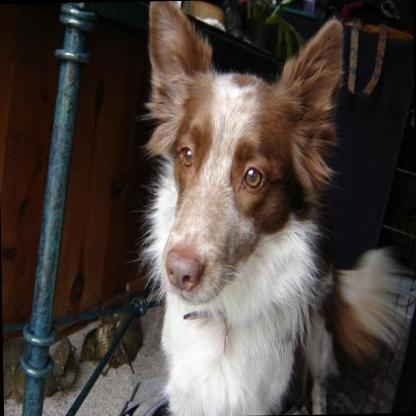collie: (129, 0, 348, 415)
